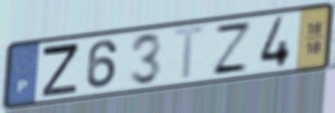3: (129, 30, 166, 88)
4: (257, 14, 292, 71)
6: (86, 38, 120, 91)
T: (170, 23, 211, 83)
Z: (209, 20, 255, 77), (40, 42, 81, 99)
